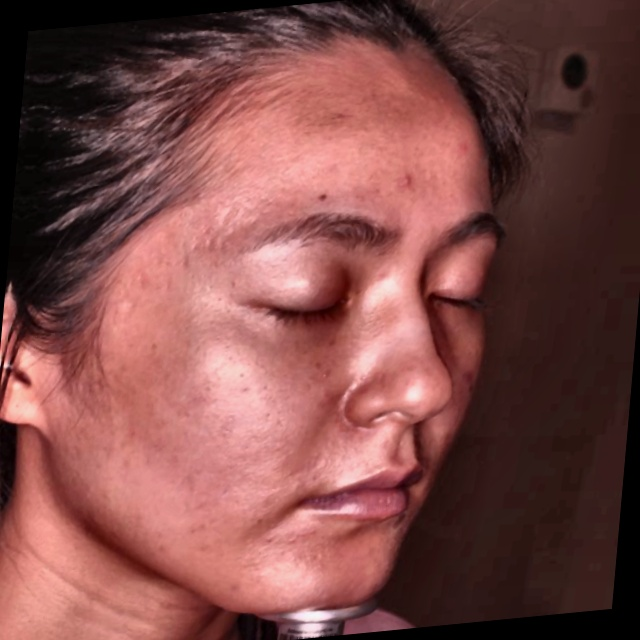comedone: (451, 135, 492, 167), (395, 169, 420, 197), (455, 364, 476, 387)
